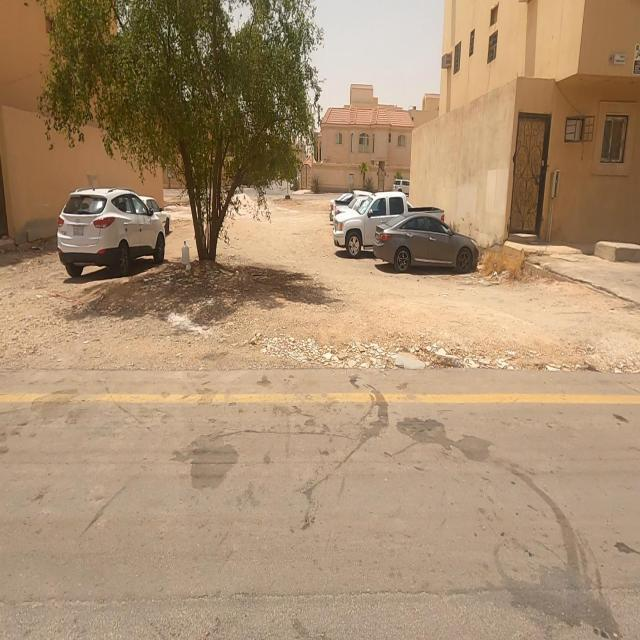debris: (152, 190, 220, 316)
